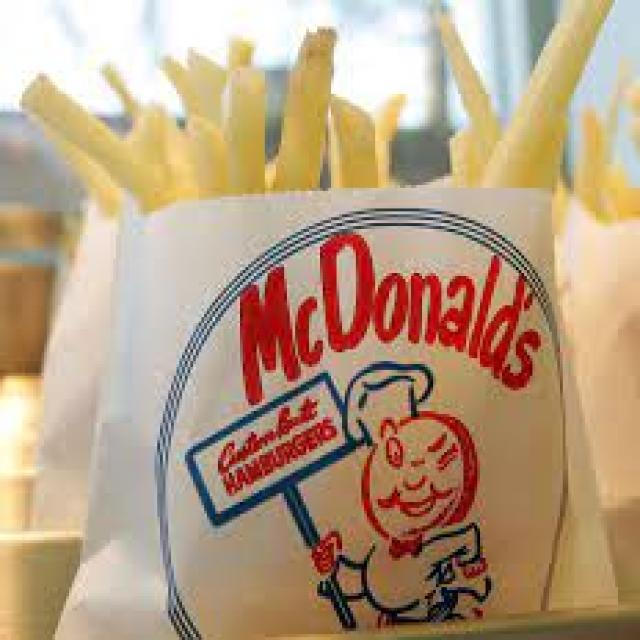Fries: (61, 66, 565, 640)
